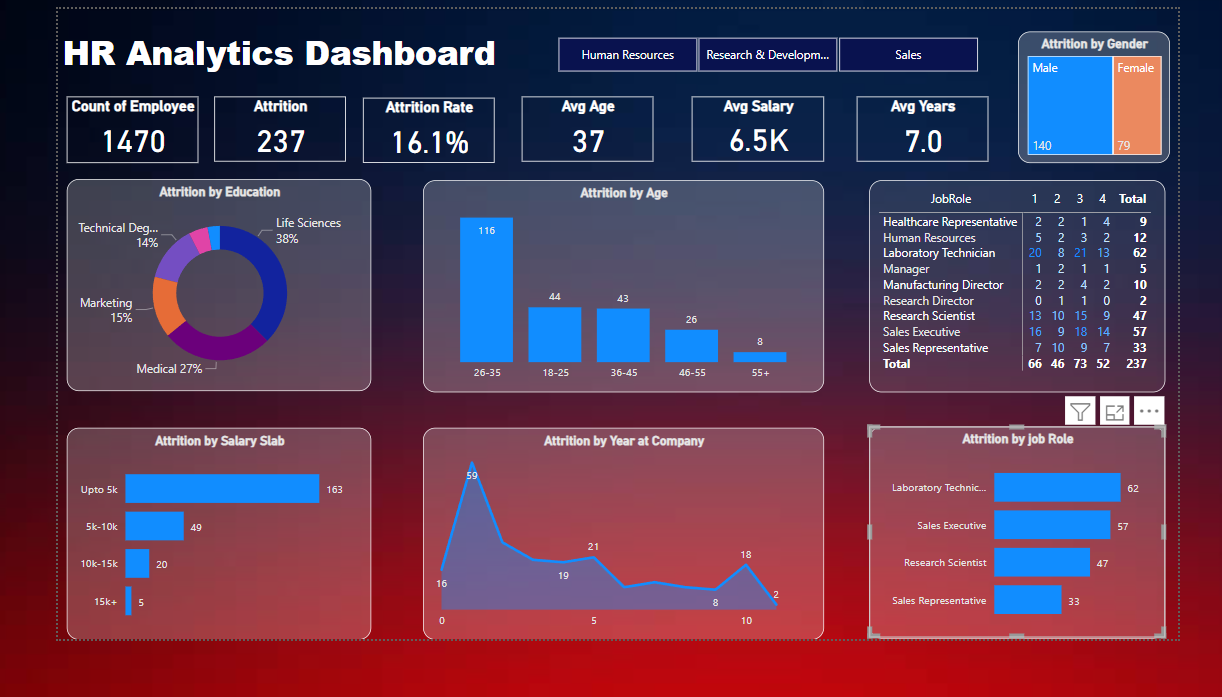

What the dashboard file says about the page in this screenshot:
{"tool":"powerbi","page":{"name":"Page 1","canvas":[1280,720],"ordinal":0},"visuals":[{"type":"card","title":"Count of Employee","fields":{"Values":["CountNonNull(HR_Analytics.EmpID)"]},"box":[9.8,100.2,150.4,75.8],"z":0},{"type":"card","title":"Attrition","fields":{"Values":["Sum(HR_Analytics.AttritionCount)"]},"box":[178.5,100.2,150.4,74.6],"z":1000},{"type":"card","title":"Attrition Rate","fields":{"Values":["HR_Analytics.Attrition_Rate"]},"box":[348.4,101.5,150.4,74.6],"z":2000},{"type":"card","title":"Avg Age","fields":{"Values":["Avg(HR_Analytics.Age)"]},"box":[530.5,100.2,150.4,74.6],"z":3000},{"type":"card","title":"Avg Salary","fields":{"Values":["Avg(HR_Analytics.MonthlyIncome)"]},"box":[723.7,100.2,151.6,74.6],"z":4000},{"type":"card","title":"Avg Years","fields":{"Values":["Avg(HR_Analytics.YearsAtCompany)"]},"box":[913.1,100.2,150.4,74.6],"z":5000},{"type":"donutChart","title":"Attrition by Education","fields":{"Y":["Sum(HR_Analytics.AttritionCount)"],"Category":["HR_Analytics.EducationField"]},"box":[9.8,194.4,348.4,242],"z":6000},{"type":"columnChart","title":"Attrition by Age","fields":{"Category":["HR_Analytics.AgeGroup"],"Y":["Sum(HR_Analytics.AttritionCount)"]},"box":[416.8,195.6,458.4,242],"z":7000},{"type":"pivotTable","fields":{"Columns":["HR_Analytics.JobSatisfaction"],"Rows":["HR_Analytics.JobRole"],"Values":["Sum(HR_Analytics.AttritionCount)"]},"box":[926.6,195.6,338.6,242],"z":8000},{"type":"barChart","title":"Attrition by Salary Slab","fields":{"Category":["HR_Analytics.SalarySlab"],"Y":["Sum(HR_Analytics.AttritionCount)"]},"box":[9.8,478,348.4,242],"z":9000},{"type":"barChart","title":"Attrition by job Role","fields":{"Y":["Sum(HR_Analytics.AttritionCount)"],"Category":["HR_Analytics.JobRole"]},"box":[926.6,476.7,338.6,242],"z":10000},{"type":"areaChart","title":"Attrition by Year at Company","fields":{"Category":["HR_Analytics.YearsAtCompany"],"Y":["Sum(HR_Analytics.AttritionCount)"]},"box":[416.8,478,458.4,242],"z":11000},{"type":"treemap","title":"Attrition by Gender","fields":{"Group":["HR_Analytics.Gender"],"Values":["Sum(HR_Analytics.AttritionCount)"]},"box":[1096.5,25.7,173.6,150.4],"z":12000},{"type":"slicer","fields":{"Values":["HR_Analytics.Department"]},"box":[545.2,25.7,529.3,52.6],"z":13000},{"type":"textbox","box":[0,18.3,511,67.2],"z":13001}]}

Visuals, with their boxes in screenshot pixels (x1, y1, x2, y2), scaled from the page's 1280x720 canvas onto the 1222x697 screenshot:
"Count of Employee" card: [left=9, top=97, right=153, bottom=170]
"Attrition" card: [left=170, top=97, right=314, bottom=169]
"Attrition Rate" card: [left=333, top=98, right=476, bottom=170]
"Avg Age" card: [left=506, top=97, right=650, bottom=169]
"Avg Salary" card: [left=691, top=97, right=836, bottom=169]
"Avg Years" card: [left=872, top=97, right=1015, bottom=169]
"Attrition by Education" donutChart: [left=9, top=188, right=342, bottom=422]
"Attrition by Age" columnChart: [left=398, top=189, right=836, bottom=424]
pivotTable - HR_Analytics.JobSatisfaction x HR_Analytics.JobRole: [left=885, top=189, right=1208, bottom=424]
"Attrition by Salary Slab" barChart: [left=9, top=463, right=342, bottom=696]
"Attrition by job Role" barChart: [left=885, top=461, right=1208, bottom=696]
"Attrition by Year at Company" areaChart: [left=398, top=463, right=836, bottom=696]
"Attrition by Gender" treemap: [left=1047, top=25, right=1213, bottom=170]
slicer - HR_Analytics.Department: [left=520, top=25, right=1026, bottom=76]
textbox: [left=0, top=18, right=488, bottom=83]
